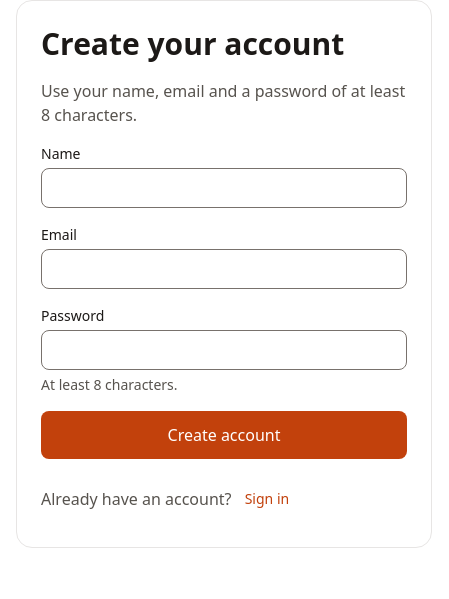
Test case: RegisterForm › AC13 shows the generic refusal when the email is taken
The image size is (449, 599).
Type "Asha" into the field labelled "Name".
click(224, 188); type("Asha")  # box [41,168,407,208]
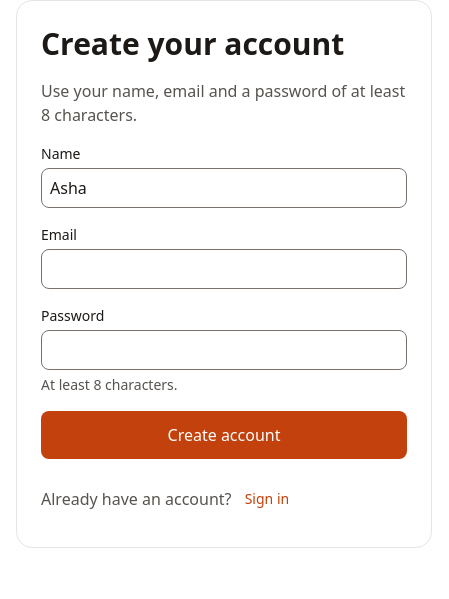
Type "asha@example.com" into the field labelled "Email".
click(224, 268); type("asha@example.com")  # box [41,248,407,288]
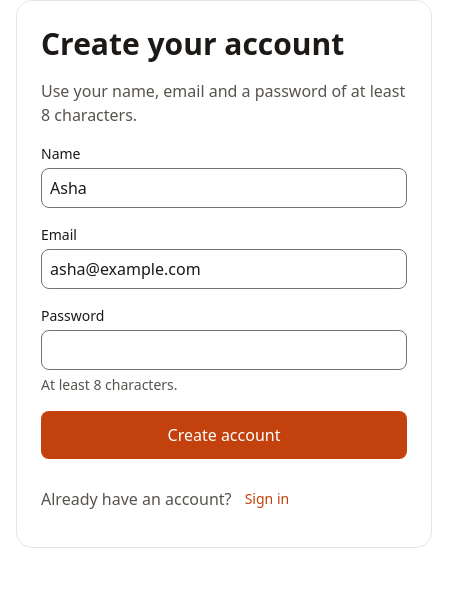
Type "12345678" into the password field labelled "Password".
click(224, 350); type("12345678")  # box [41,330,407,370]
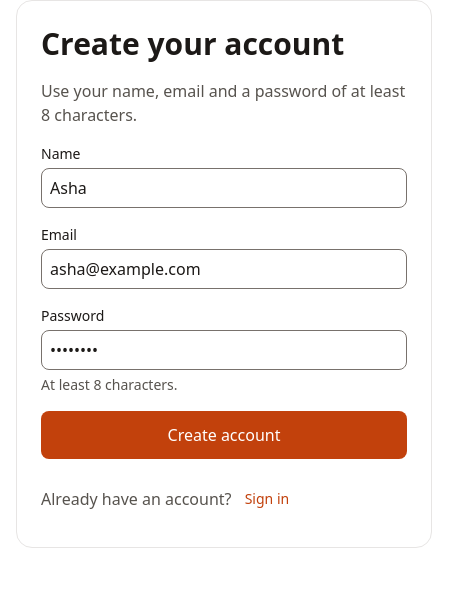
Click the button "Create account".
click(224, 434)  # box [41,410,407,458]
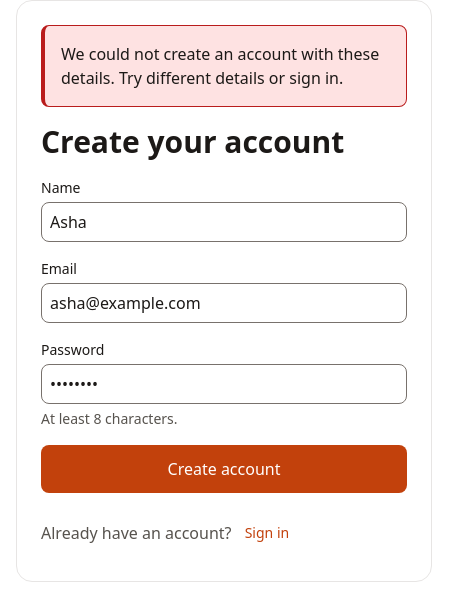
Check: the message shows "We could not create an account with these details. Try different details or sign in.", box [61,43,379,89]
